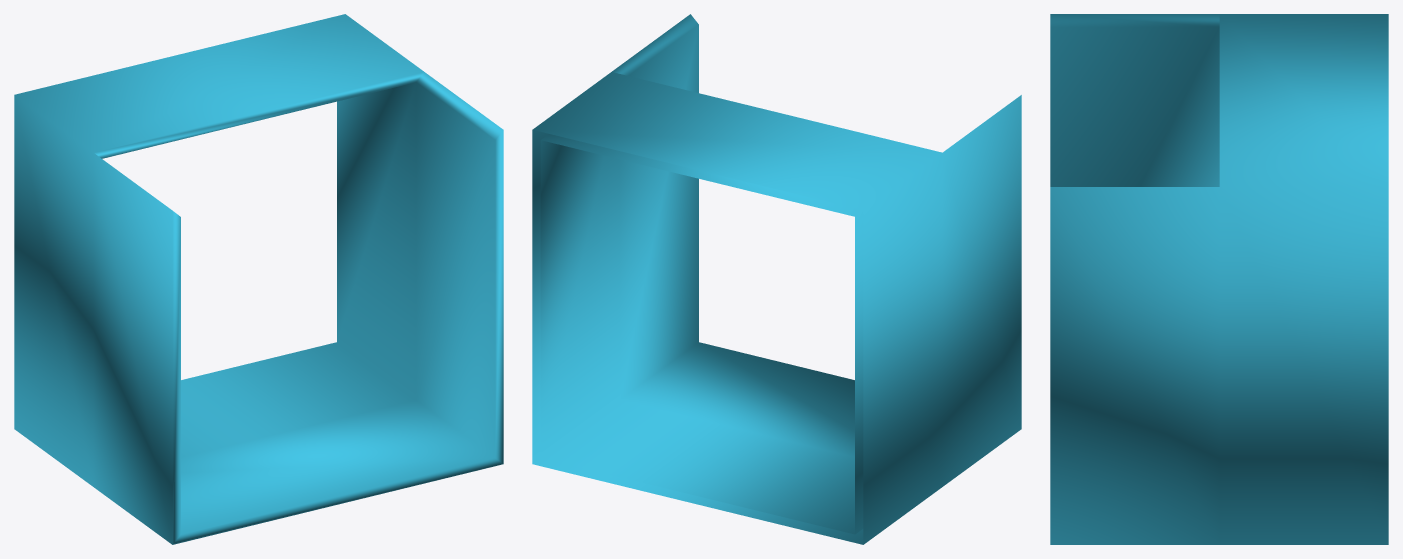
The model's file is machine4_glass.fbx.
3 views of the same model, side by side, from view 1: azimuth 30°, elevation 25°; view 2: azimuth 150°, elevation 25°; view 3: azimuth 270°, elevation 25° (orthographic). The views are drawn at different scales.
Parts seen in each view (by area): view 1: Plane_078; view 2: Plane_078; view 3: Plane_078.
Part boxes in pixels (left/top/right/bottom): Plane_078: left=14, top=14, right=503, bottom=544; Plane_078: left=532, top=14, right=1021, bottom=544; Plane_078: left=1050, top=14, right=1388, bottom=544.
Bounding box in the file's own units: 5.8 × 5.6 × 4.8.
Materials: 1 (1 with a texture image).
